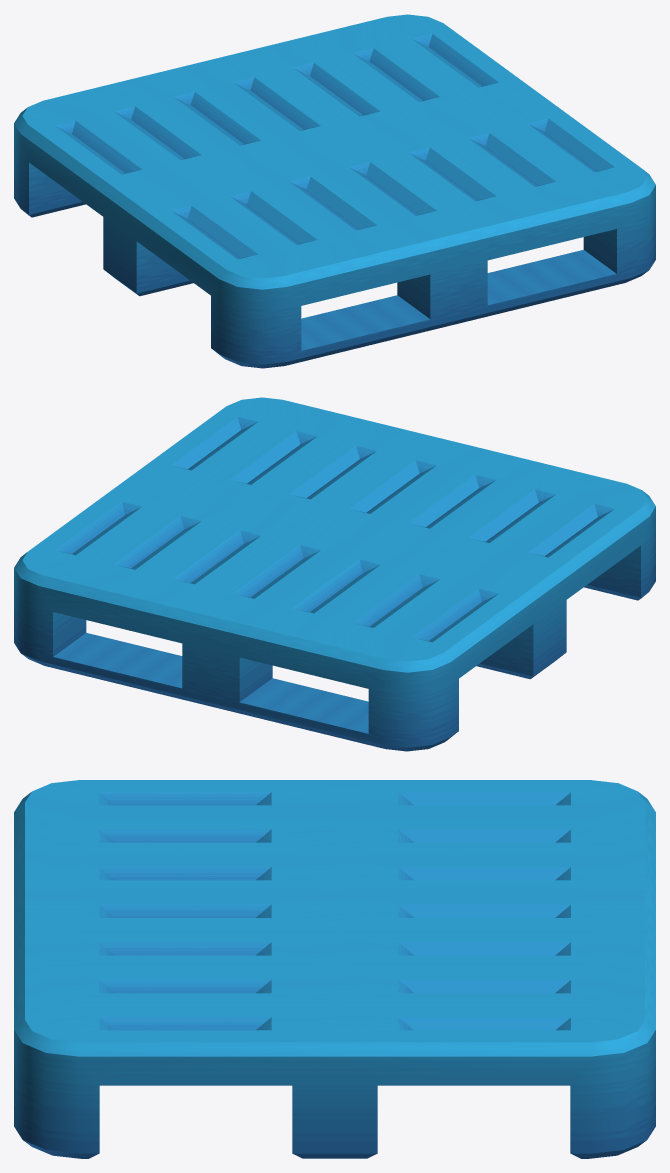
Rendered from Pallet_Plastic_Blue.gltf.
The picture shows the model from 3 angles, top to bottom: view 1: azimuth 30°, elevation 25°; view 2: azimuth 150°, elevation 25°; view 3: azimuth 270°, elevation 25°; orthographic projection. The views are drawn at different scales.
Visible parts, largest first — view 1: Pallet_Plastic_Blue; view 2: Pallet_Plastic_Blue; view 3: Pallet_Plastic_Blue.
Part boxes in pixels (x1,y1,x2,y2): Pallet_Plastic_Blue: (14, 14, 655, 368); Pallet_Plastic_Blue: (14, 397, 655, 751); Pallet_Plastic_Blue: (14, 780, 655, 1158).
Size of the model in its own units: 1.5 by 0.3 by 1.5.
Materials: 1 (1 with a texture image).
